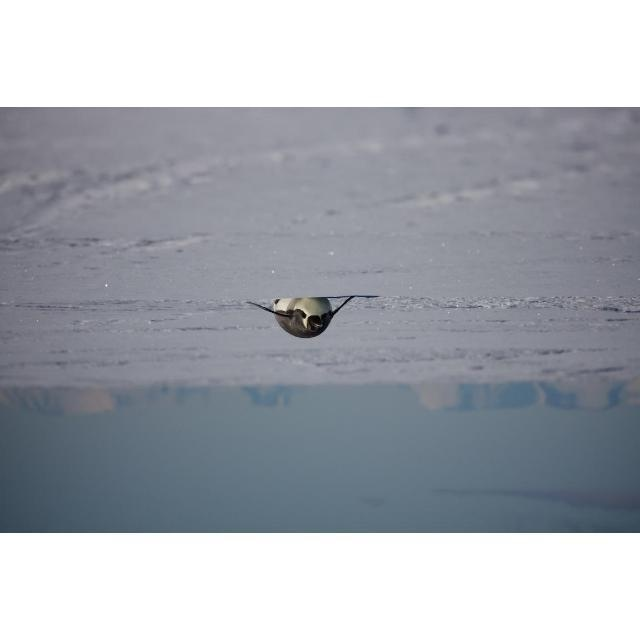penguin: (246, 296, 355, 338)
